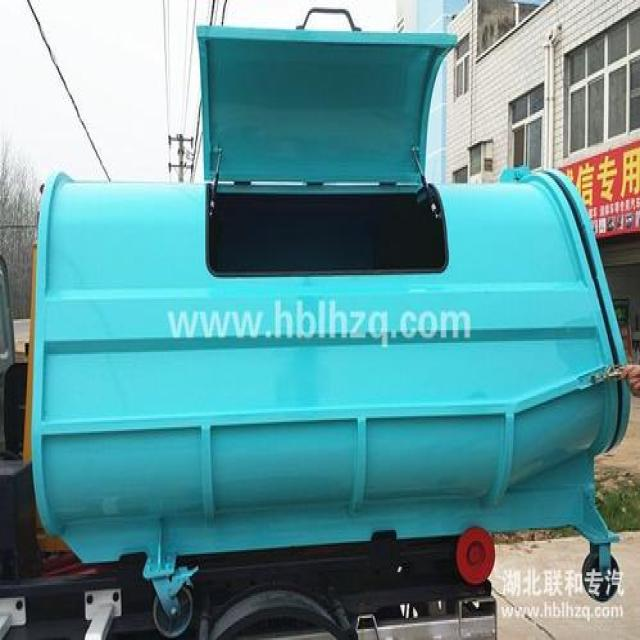garbage_bin: (29, 163, 628, 638)
